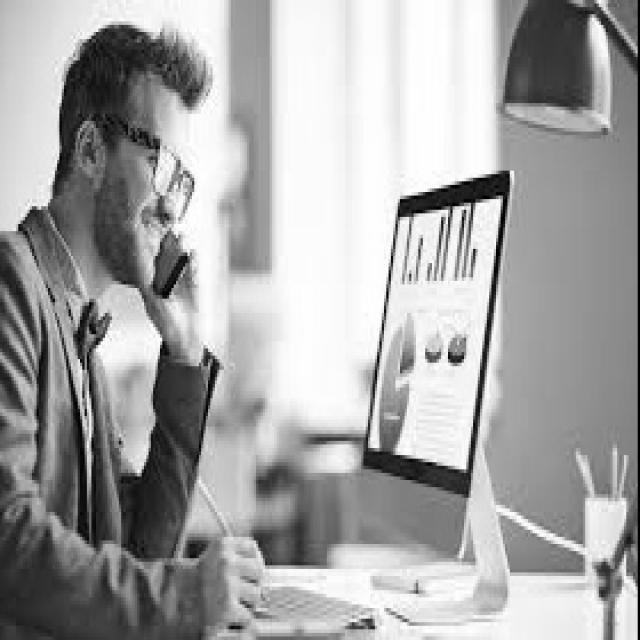phone: (132, 174, 222, 359)
